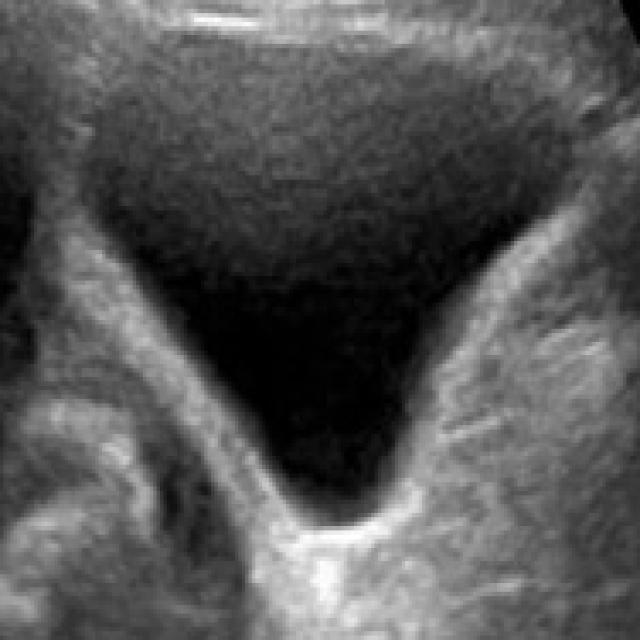bladder: (30, 10, 604, 613)
